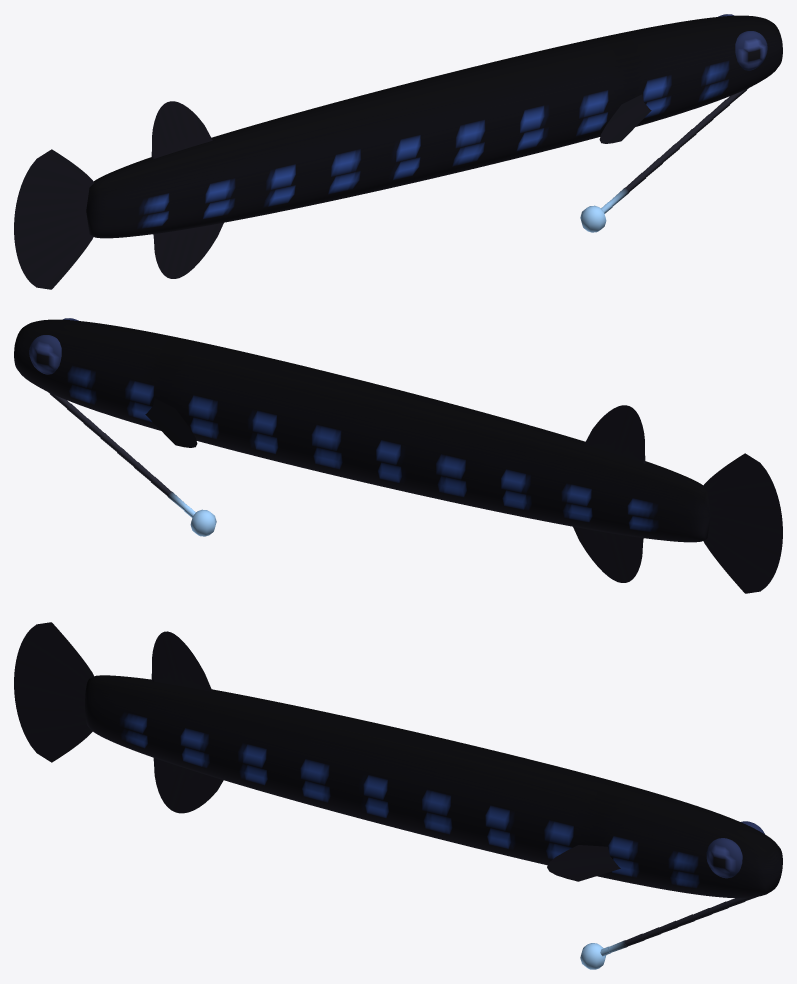
File: ejder.glb
3 renders of one model, top to bottom at view 1: azimuth 30°, elevation 25°; view 2: azimuth 150°, elevation 25°; view 3: azimuth 330°, elevation 25°, orthographic.
Parts seen in each view (by area): view 1: ejder_govde, ejder_kuyruk, ejder_anal_a, ejder_sirt, ejder_biyik, ejder_gogusL, ejder_gozL; view 2: ejder_govde, ejder_kuyruk, ejder_anal_a, ejder_sirt, ejder_biyik, ejder_gogusR, ejder_gozR; view 3: ejder_govde, ejder_kuyruk, ejder_anal_a, ejder_sirt, ejder_gogusL, ejder_biyik, ejder_gozL.
Part boxes in pixels (box(x1,y1,x2,y2)): ejder_govde: box(86, 15, 782, 238); ejder_kuyruk: box(14, 149, 94, 289); ejder_anal_a: box(153, 222, 223, 278); ejder_sirt: box(151, 101, 212, 159); ejder_biyik: box(580, 88, 748, 232); ejder_gogusL: box(599, 94, 651, 143); ejder_gozL: box(735, 31, 767, 70); ejder_govde: box(14, 319, 710, 542); ejder_kuyruk: box(702, 453, 782, 593); ejder_anal_a: box(573, 526, 643, 582); ejder_sirt: box(584, 405, 645, 463); ejder_biyik: box(48, 392, 216, 536); ejder_gogusR: box(145, 398, 197, 447); ejder_gozR: box(29, 335, 61, 374); ejder_govde: box(85, 675, 782, 898); ejder_kuyruk: box(14, 622, 94, 762); ejder_anal_a: box(153, 758, 223, 813); ejder_sirt: box(151, 631, 212, 691); ejder_gogusL: box(547, 845, 620, 881); ejder_biyik: box(580, 896, 757, 969); ejder_gozL: box(706, 838, 742, 878).
Size of the model in its own units: 0.915 by 0.2655 by 0.1084.
